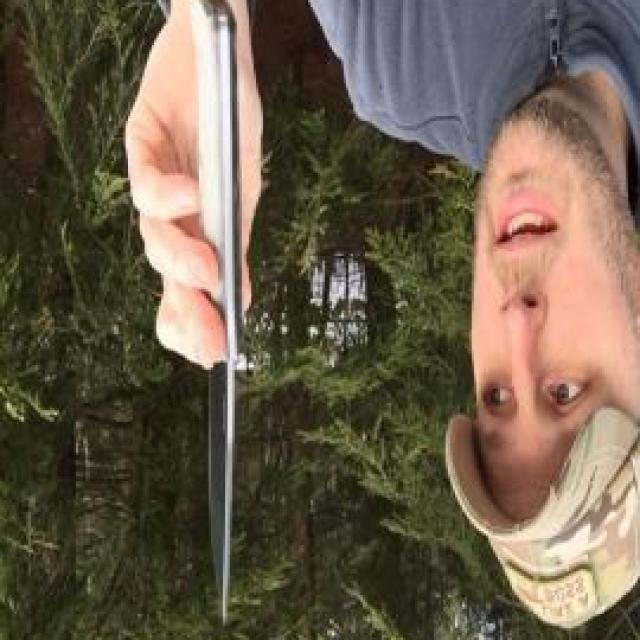knife: (121, 171, 262, 635)
